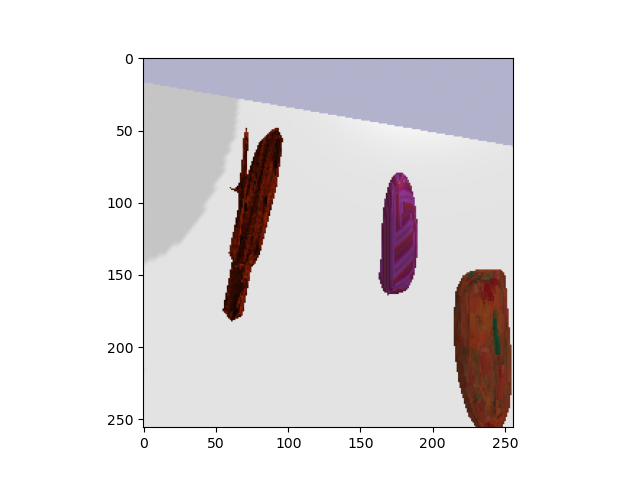v249b387_105: (372, 166, 429, 310)
v249b387_106: (444, 261, 515, 425)
v249b387_107: (220, 125, 295, 329)
